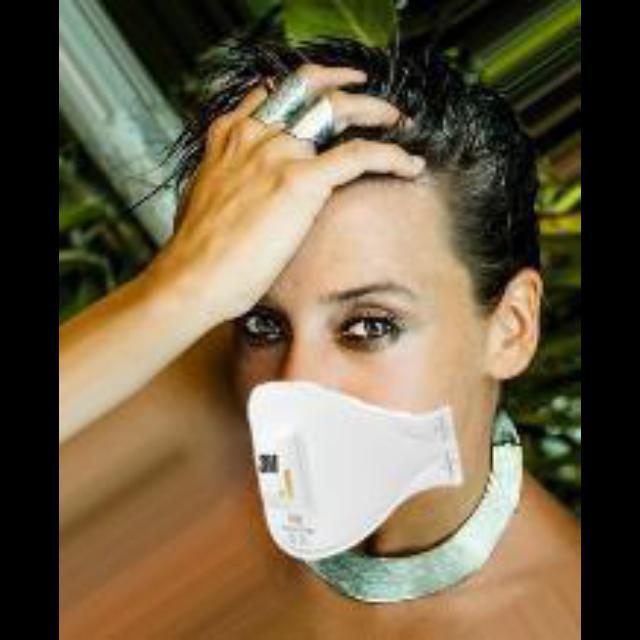suspicion: (228, 70, 562, 540)
